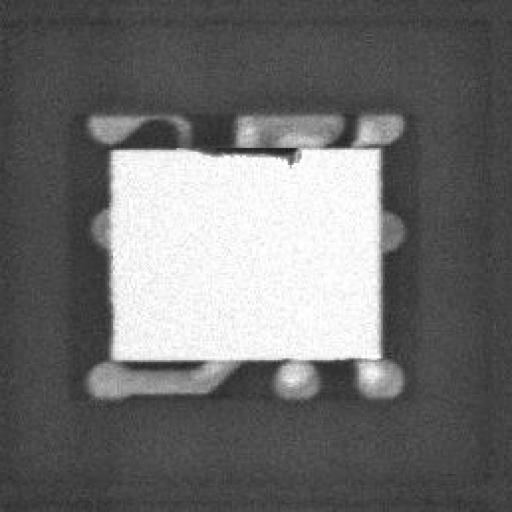DIE_BROKEN: (196, 138, 304, 165)
